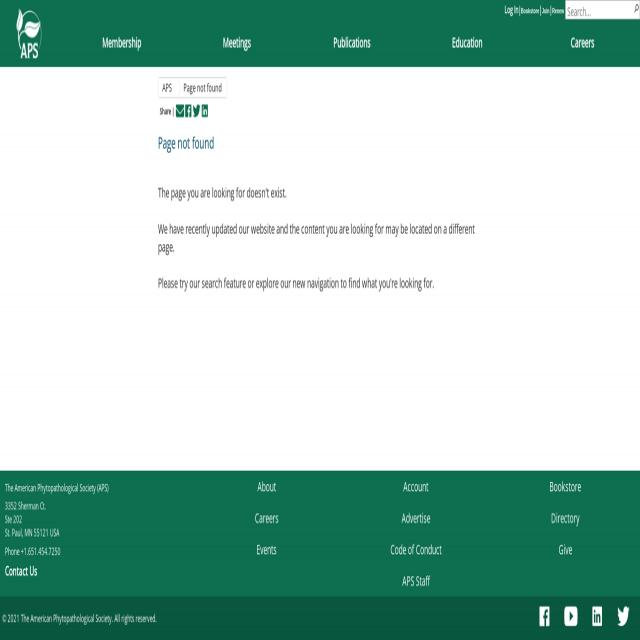button: (0, 0, 64, 67), (203, 470, 331, 502), (352, 470, 480, 502), (203, 533, 331, 565), (352, 533, 480, 565), (203, 502, 331, 533), (352, 502, 480, 533), (352, 566, 480, 597), (507, 533, 627, 565), (508, 472, 626, 503), (508, 503, 626, 532), (90, 22, 156, 65), (208, 22, 265, 64), (323, 28, 383, 61), (441, 30, 496, 60), (554, 30, 607, 60), (534, 601, 554, 633), (588, 602, 608, 632), (563, 602, 580, 632), (616, 603, 632, 628), (175, 102, 185, 120), (192, 102, 201, 119), (184, 102, 192, 119), (201, 102, 209, 119)
field: (565, 1, 640, 18)
